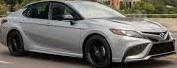Cars: (4, 3, 154, 68)
